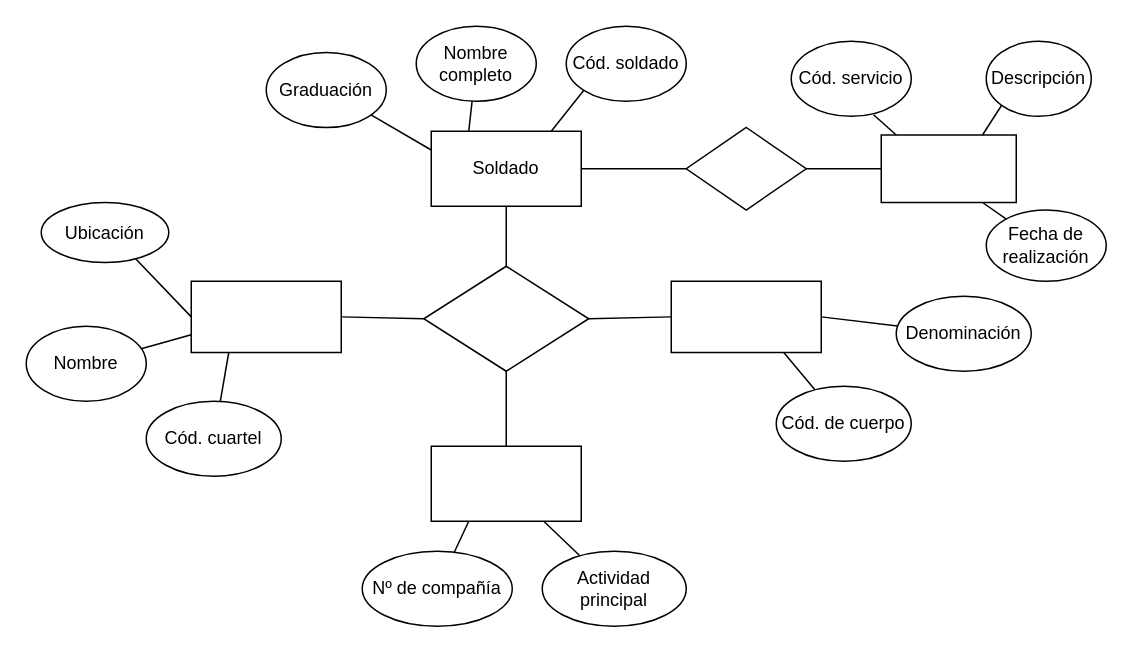
This 1133x653 diagram has some shape labels left out. The centre of each missing label's shape, as x and y in pixels:
Compañía: point 505,483
Cuartel: point 265,316
Cuerpo: point 745,316
Pertenece: point 505,318
Realiza: point 745,168
Servicio: point 948,168
